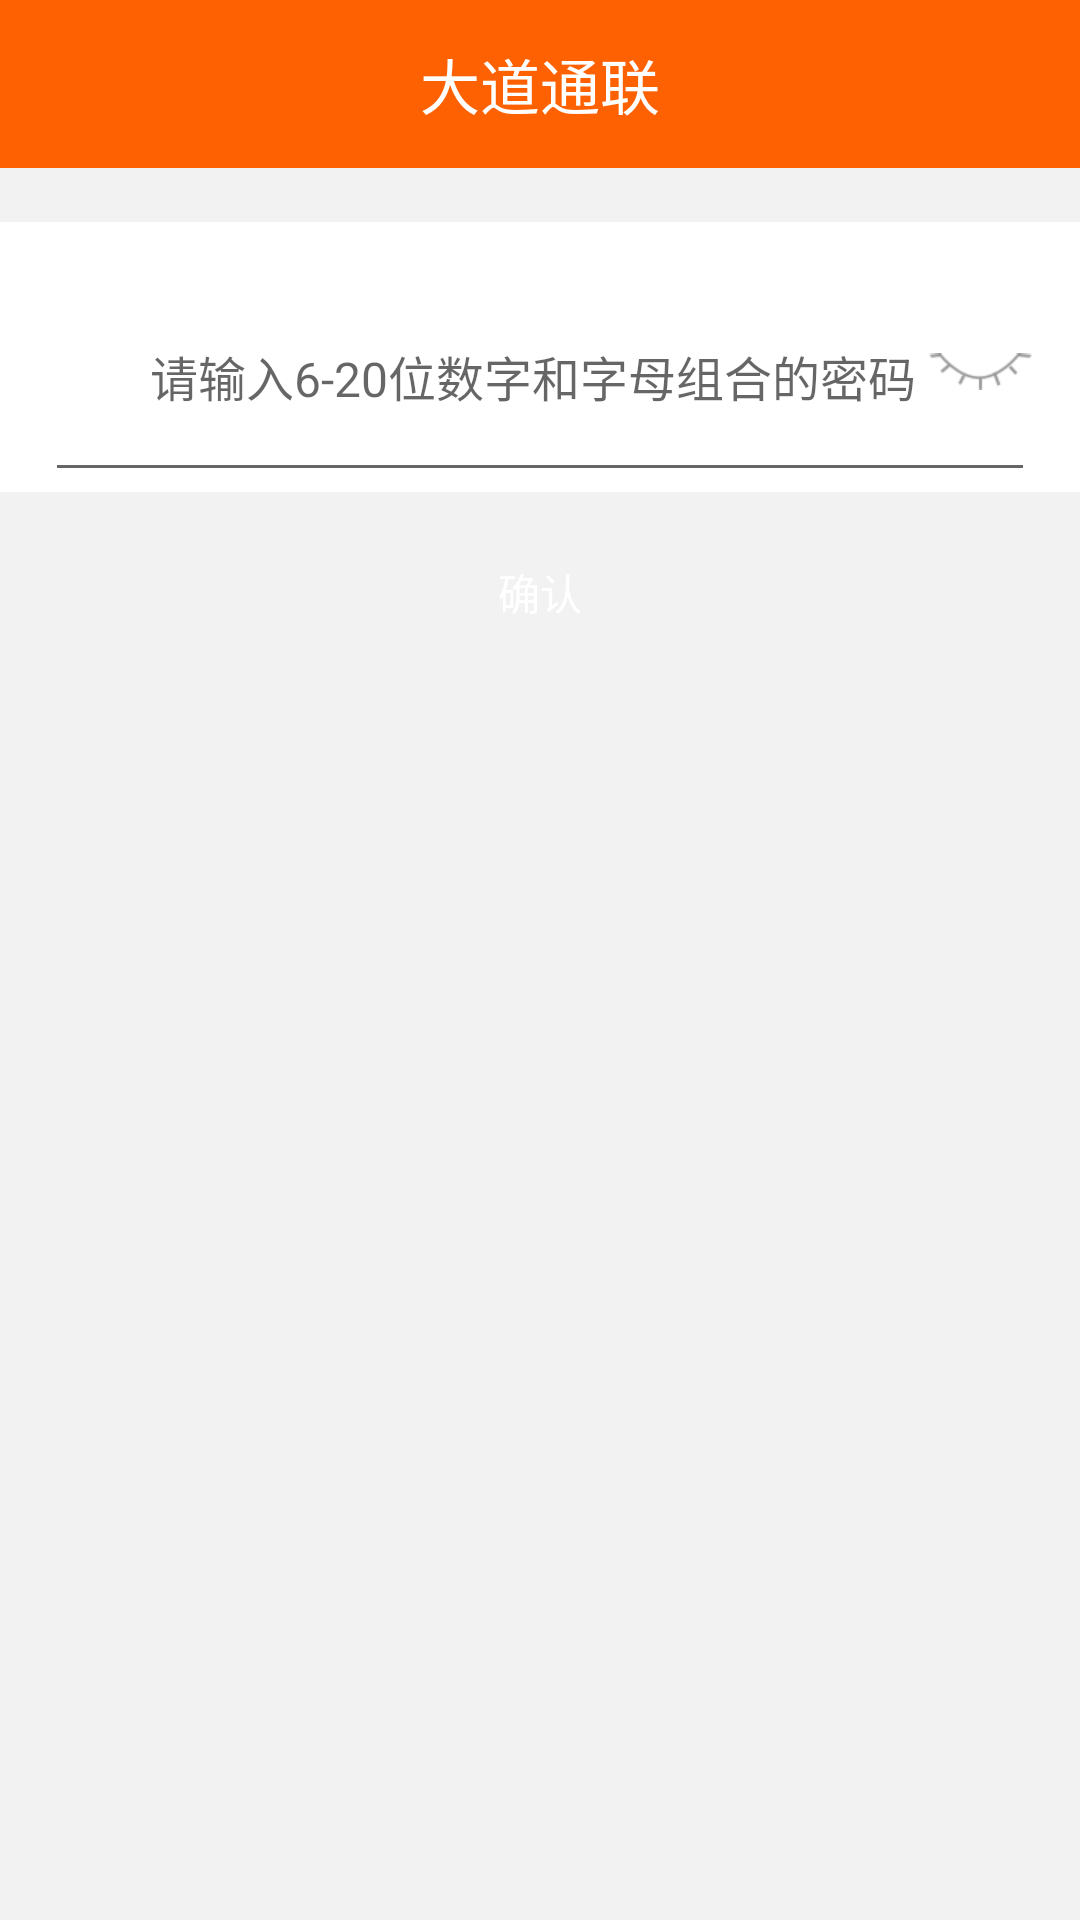

Locate icon controls on the screen. Image size 1080px×1920px, boxes as (x1, y1, x2, y2).
eye: (930, 353, 1032, 390)
